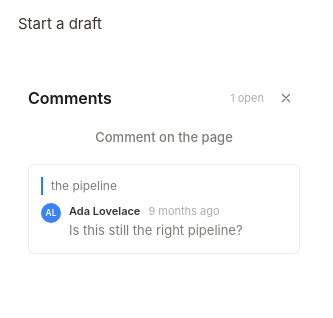
the comments panel › takes a resolved thread out of the list at once, even while it is in focus
(page scrolled)
Note: A click puts the thread in focus, which is what used to keep the card on the screen.
What coordinates should you click on to do the following:
click the list item
I would click on:
 (164, 209)
Its box is [28,164,300,254].
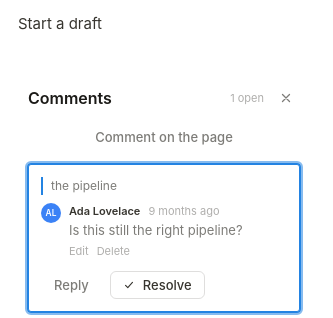
What coordinates should you click on to do the following:
click the button "Resolve"
I would click on:
 (157, 285)
Its box is [110,271,205,299].
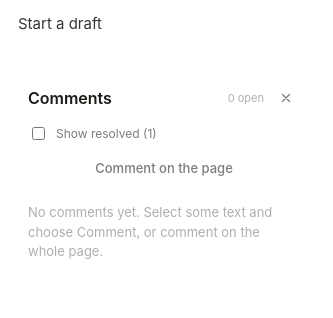
Now the text with class "comments__count" reads "0 open", box [228,90,264,106]
